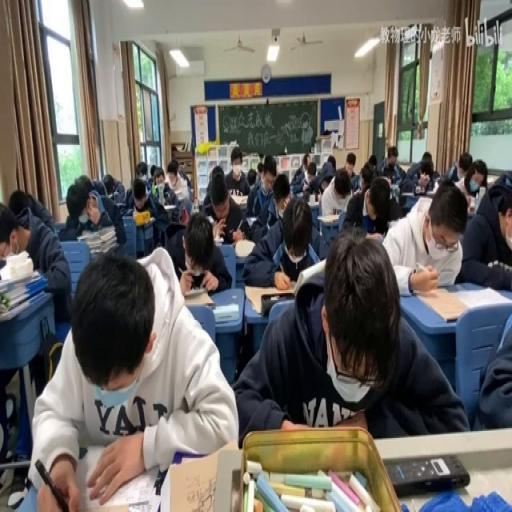calculator: (164, 441, 238, 512), (83, 458, 159, 508), (243, 282, 292, 314), (454, 284, 510, 310), (181, 287, 216, 307), (212, 302, 238, 322), (86, 240, 116, 254), (234, 238, 256, 256), (94, 225, 116, 240), (307, 240, 320, 264), (317, 213, 340, 225), (132, 215, 154, 226), (77, 227, 97, 239), (230, 192, 248, 205), (389, 183, 399, 202), (290, 182, 303, 195), (400, 190, 418, 198), (174, 189, 186, 201), (246, 215, 258, 226), (306, 199, 320, 208), (422, 190, 437, 198), (206, 215, 216, 226), (486, 175, 498, 183), (162, 204, 176, 210), (213, 235, 222, 243)
paper: (28, 245, 238, 509), (233, 230, 464, 444), (0, 193, 70, 325), (381, 178, 464, 288), (242, 191, 327, 287), (459, 172, 512, 292), (164, 204, 230, 292), (60, 175, 126, 253), (472, 303, 512, 431), (342, 170, 400, 232), (222, 145, 252, 196), (402, 149, 437, 192), (123, 165, 154, 210), (376, 145, 405, 186), (442, 151, 472, 185), (298, 161, 320, 196), (8, 189, 30, 222), (148, 192, 170, 223), (0, 212, 17, 250), (272, 179, 290, 211), (342, 152, 358, 184), (334, 175, 350, 200), (358, 165, 372, 193), (177, 162, 192, 188), (112, 180, 125, 204), (474, 188, 486, 213), (208, 165, 226, 181), (102, 176, 116, 196), (246, 166, 258, 185), (167, 170, 178, 184), (366, 154, 376, 169), (326, 155, 335, 171), (302, 155, 310, 171), (321, 180, 330, 194), (136, 169, 146, 181), (154, 176, 164, 188), (146, 175, 154, 189), (256, 162, 262, 175), (150, 162, 156, 175), (422, 158, 428, 169)
person: (384, 452, 470, 496), (302, 188, 310, 202)
